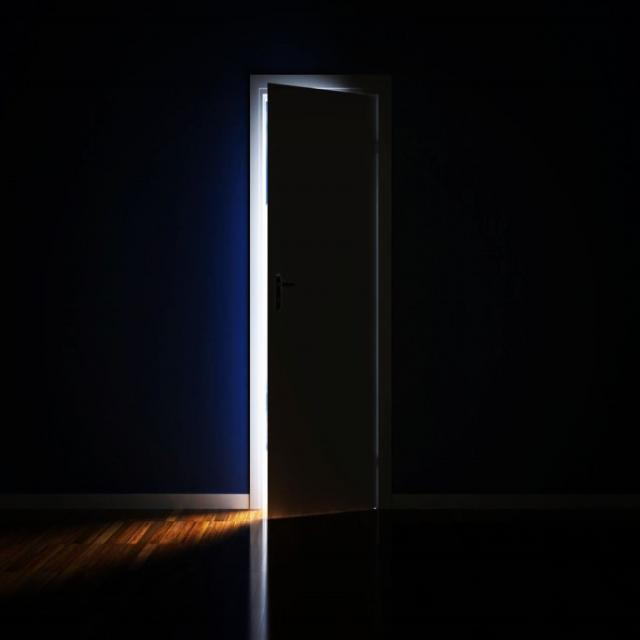open: (250, 80, 389, 516)
